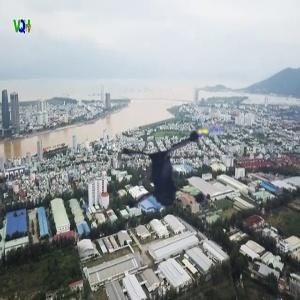drone: (105, 108, 251, 254)
